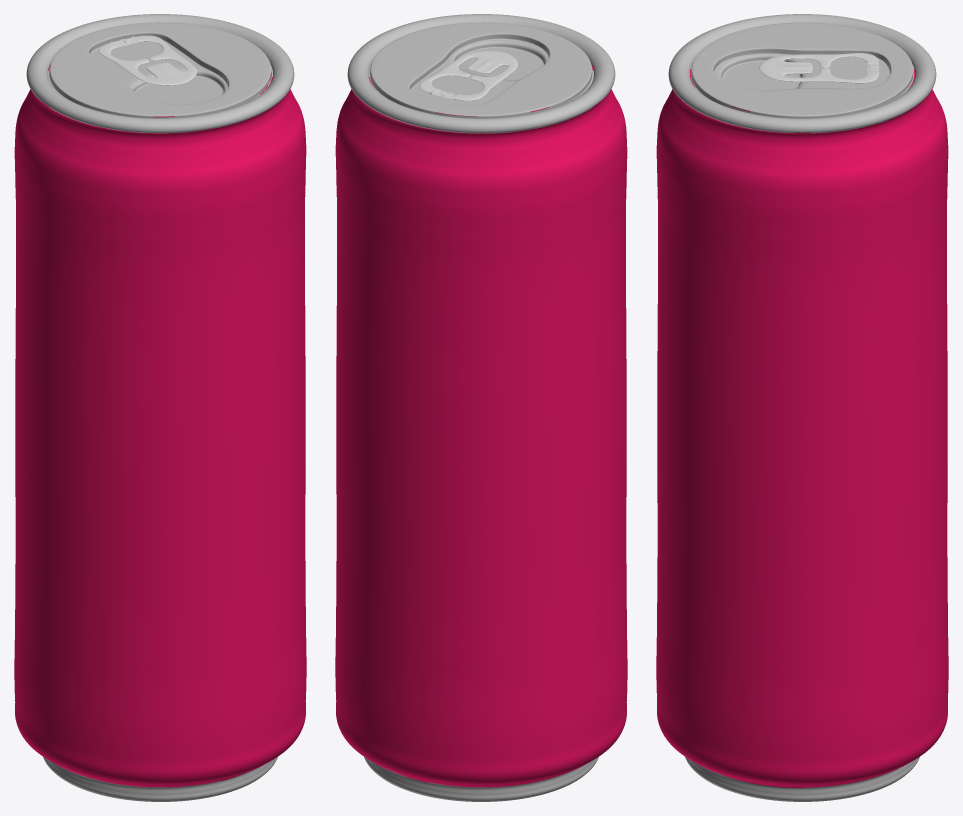
File: kanakakansei.fbx
3 views of the same model, side by side, from view 1: azimuth 30°, elevation 25°; view 2: azimuth 150°, elevation 25°; view 3: azimuth 270°, elevation 25° (orthographic).
Visible parts, largest first — view 1: 平面; view 2: 平面; view 3: 平面.
Boxes of the visible parts, x1,y1,x2,y2 form: 平面: (14,14,306,801); 平面: (335,14,627,801); 平面: (656,14,948,801).
Size of the model in its own units: 194 by 504 by 194.
Materials: 1 (1 with a texture image).
